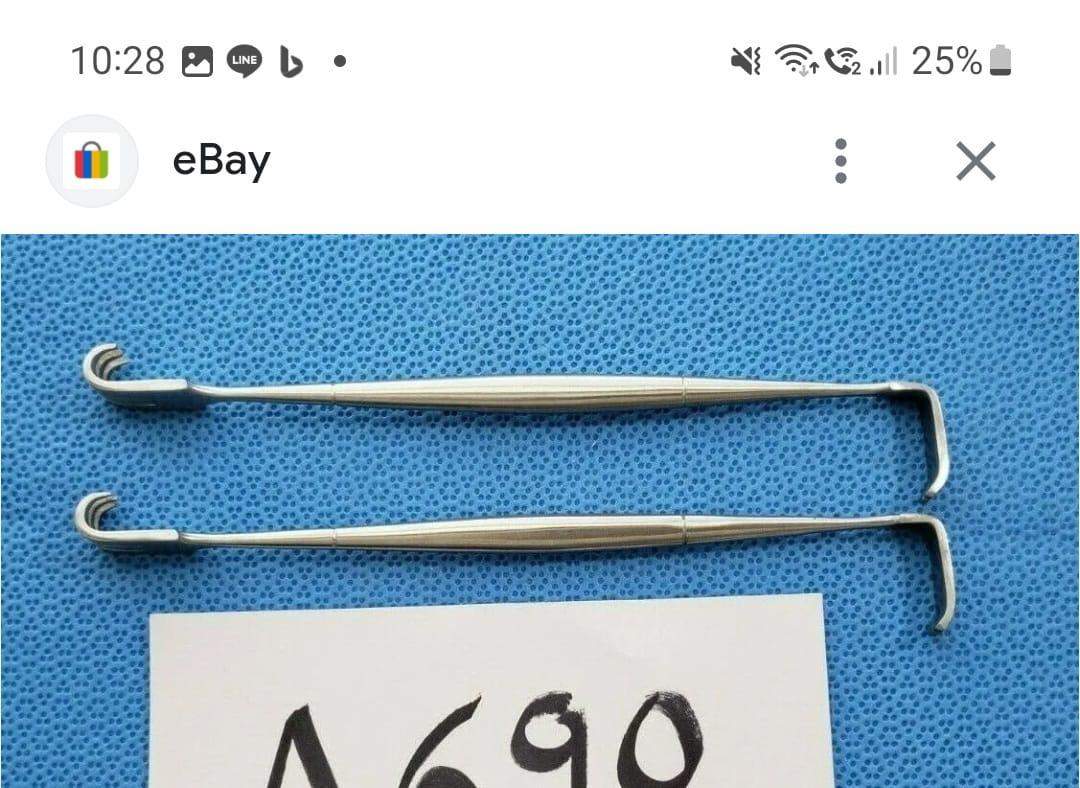Senn Retractor: (73, 315, 969, 511), (56, 478, 970, 645)
